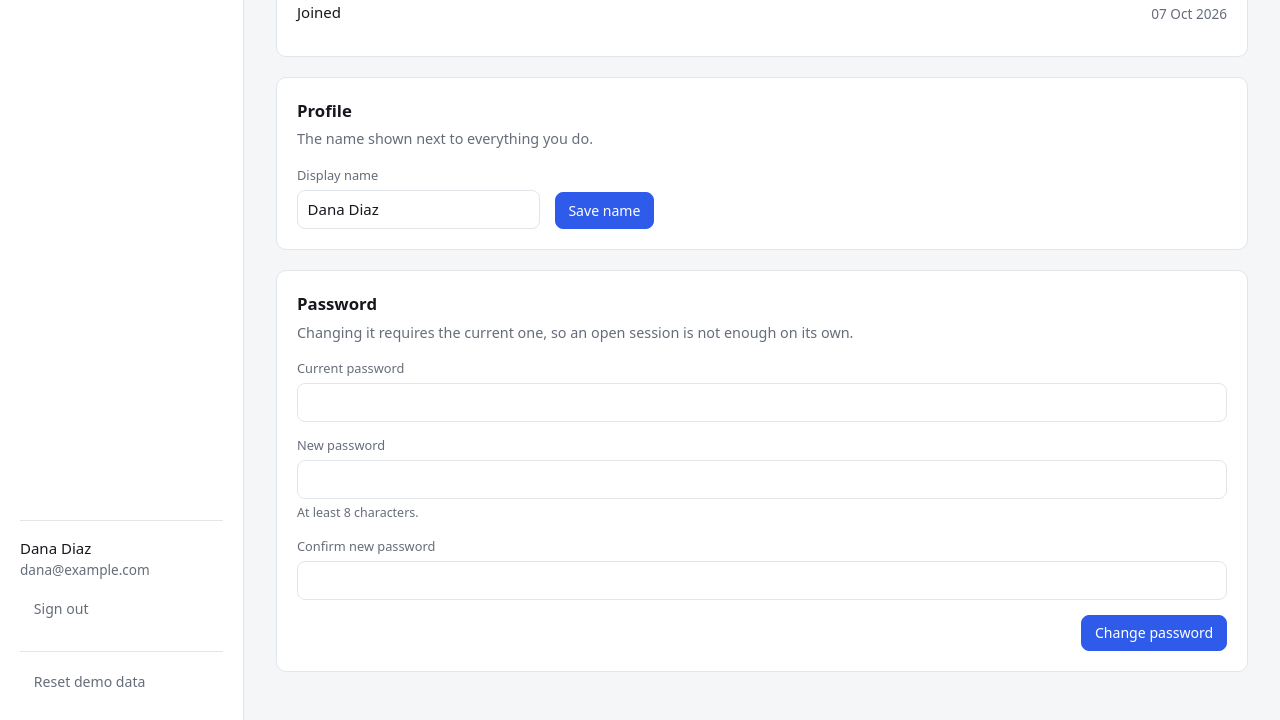
Test case: the account screen › refuses the change when the current password is wrong
The image size is (1280, 720).
(page scrolled)
Step 1. Type "not-the-password" into the password field labelled "Current password" → (762, 403), box [297,383,1227,422]
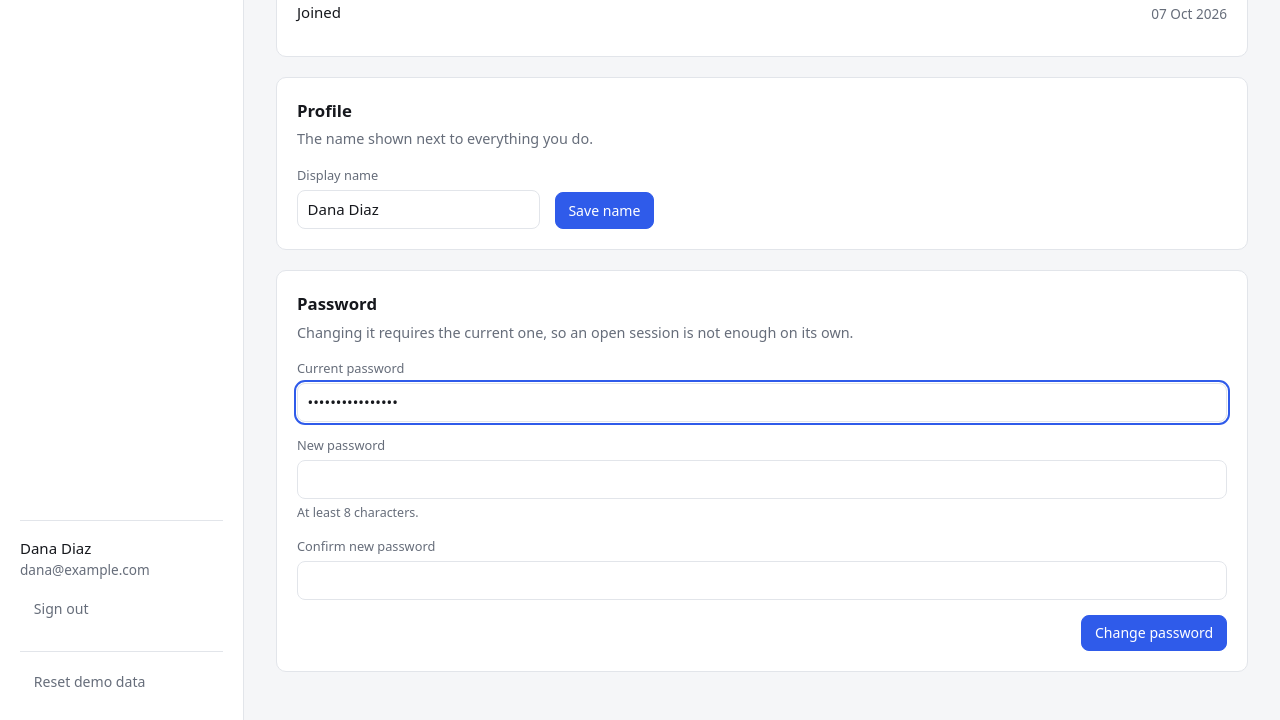
Step 2. Type "a-longer-secret" into the password field labelled "New password" → (762, 480), box [297,460,1227,499]
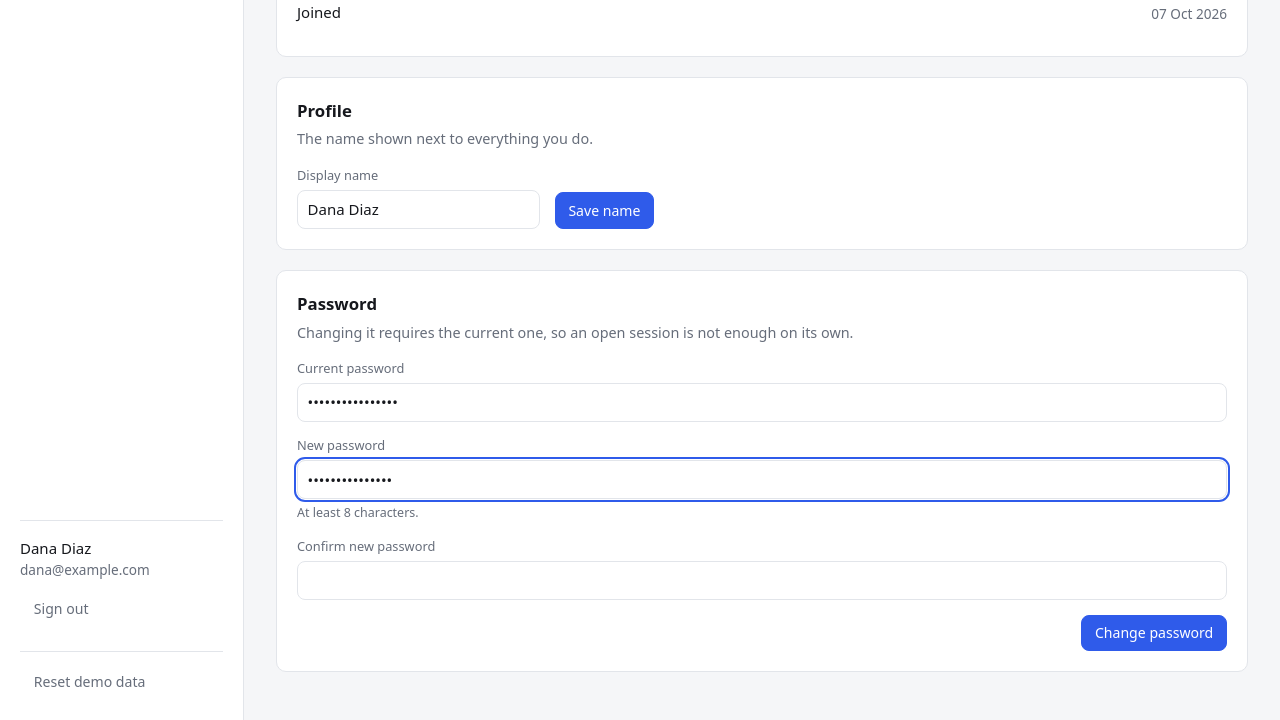
Step 3. Type "a-longer-secret" into the password field labelled "Confirm new password" → (762, 581), box [297,561,1227,600]
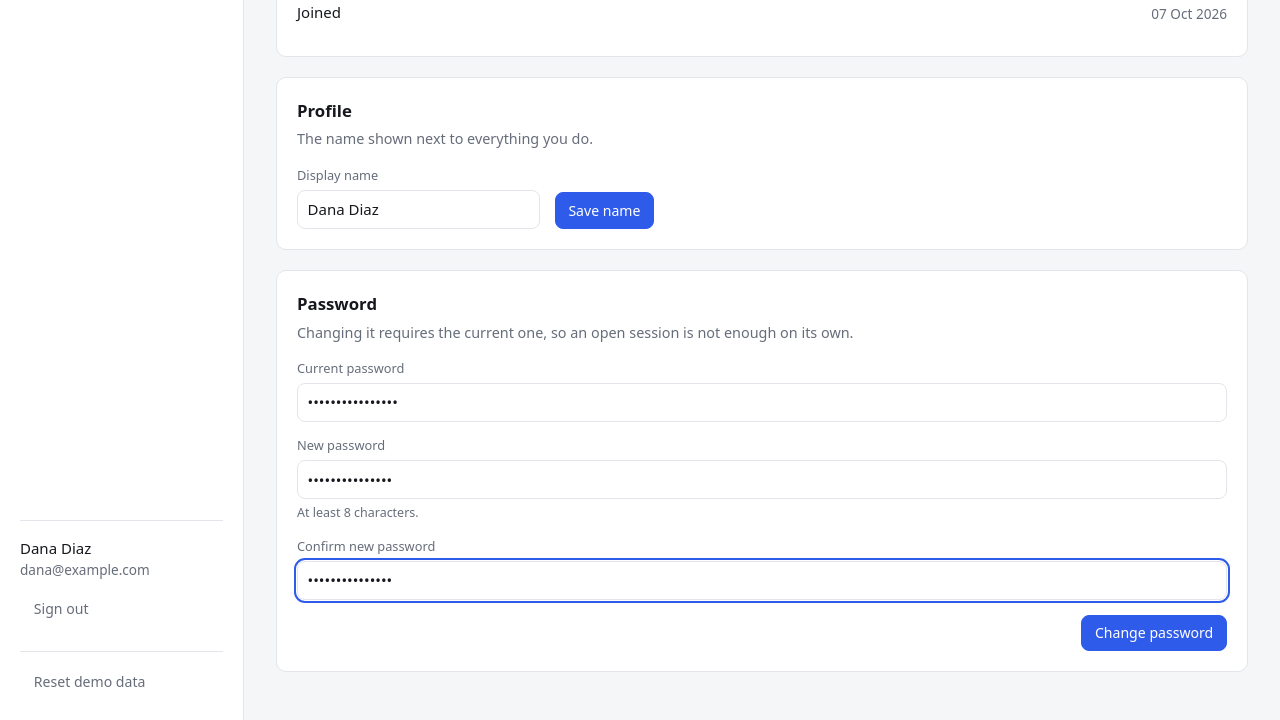
Step 4. Click the button "Change password" → click(1154, 633), box [1081,614,1227,651]
(page scrolled)
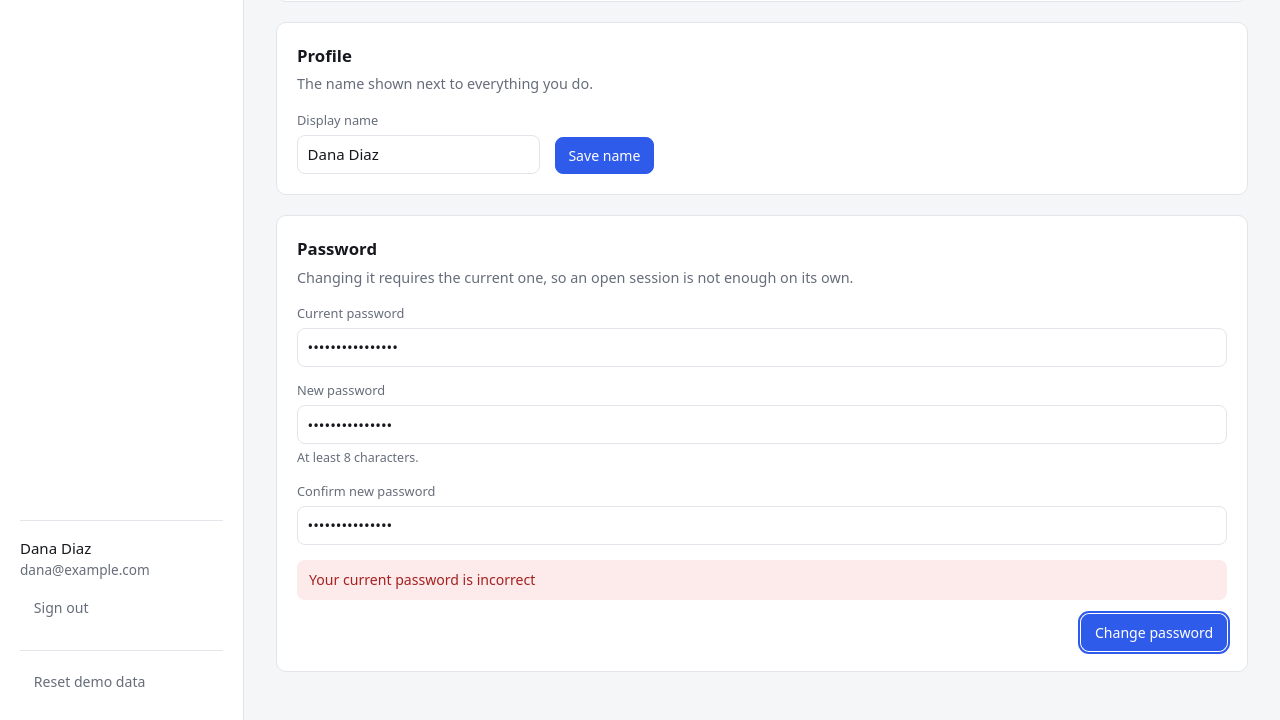
Expected: the message reads "Your current password is incorrect", [309,570,535,589]
